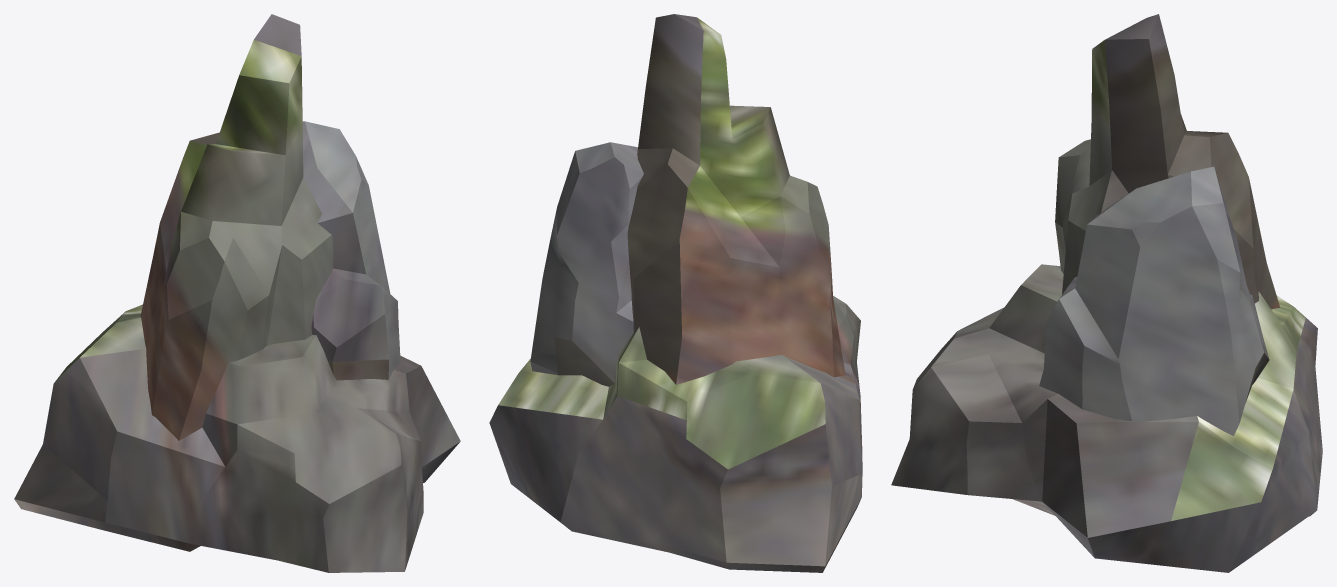
The picture shows the model from 3 angles, left to right: view 1: azimuth 30°, elevation 25°; view 2: azimuth 150°, elevation 25°; view 3: azimuth 270°, elevation 25°; orthographic projection. The views are drawn at different scales.
Visible parts, largest first — view 1: Rock_5; view 2: Rock_5; view 3: Rock_5.
Boxes of the visible parts, x1,y1,x2,y2 form: Rock_5: (14,14,460,572); Rock_5: (489,14,862,572); Rock_5: (891,14,1322,572).
Size of the model in its own units: 1.29 by 1.69 by 1.32.
